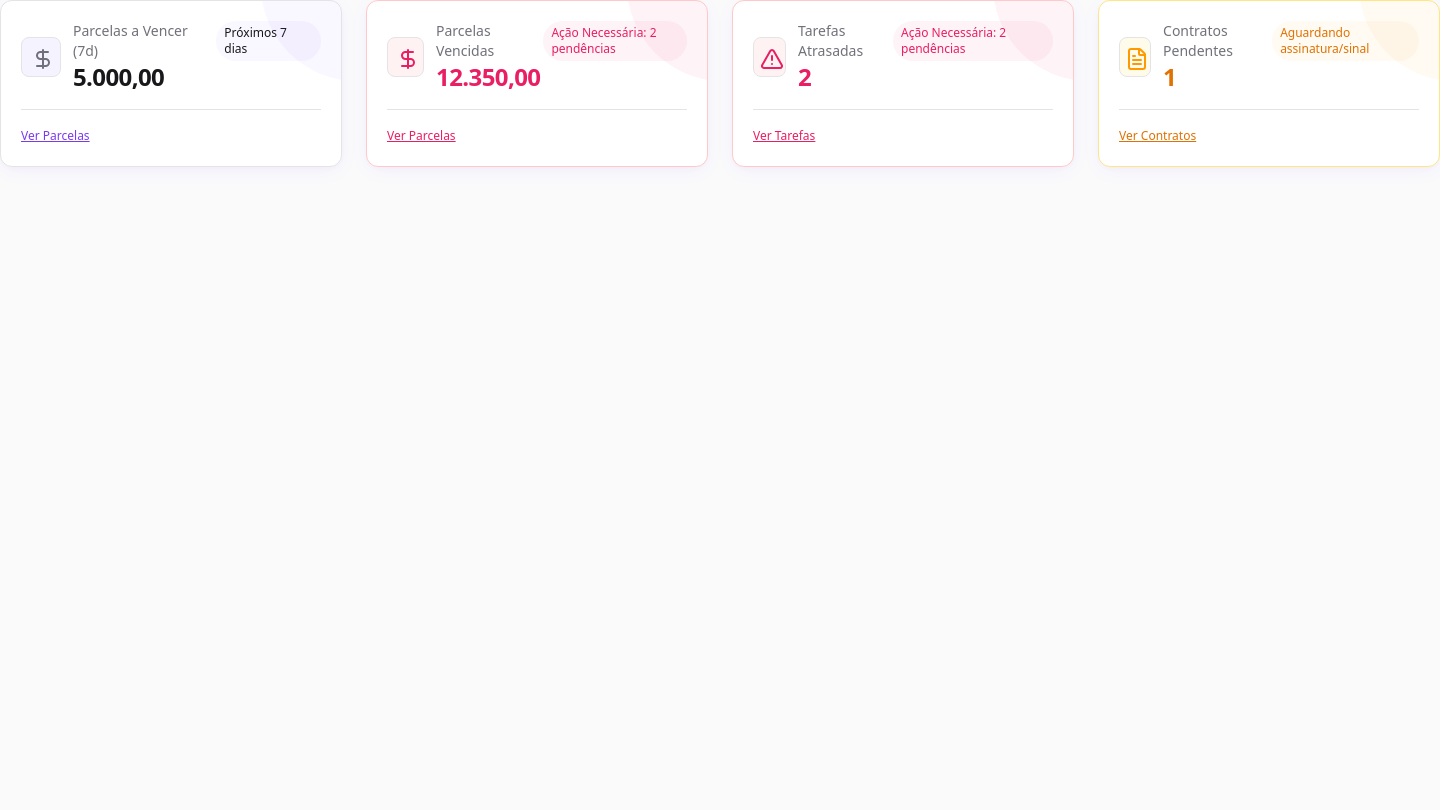
Scenario: StatsCards › opens pending contracts Sheet and renders content
The width and height of the screenshot is (1440, 810).
Click the button "Ver Contratos".
click(1158, 136)  # box [1119,128,1196,144]
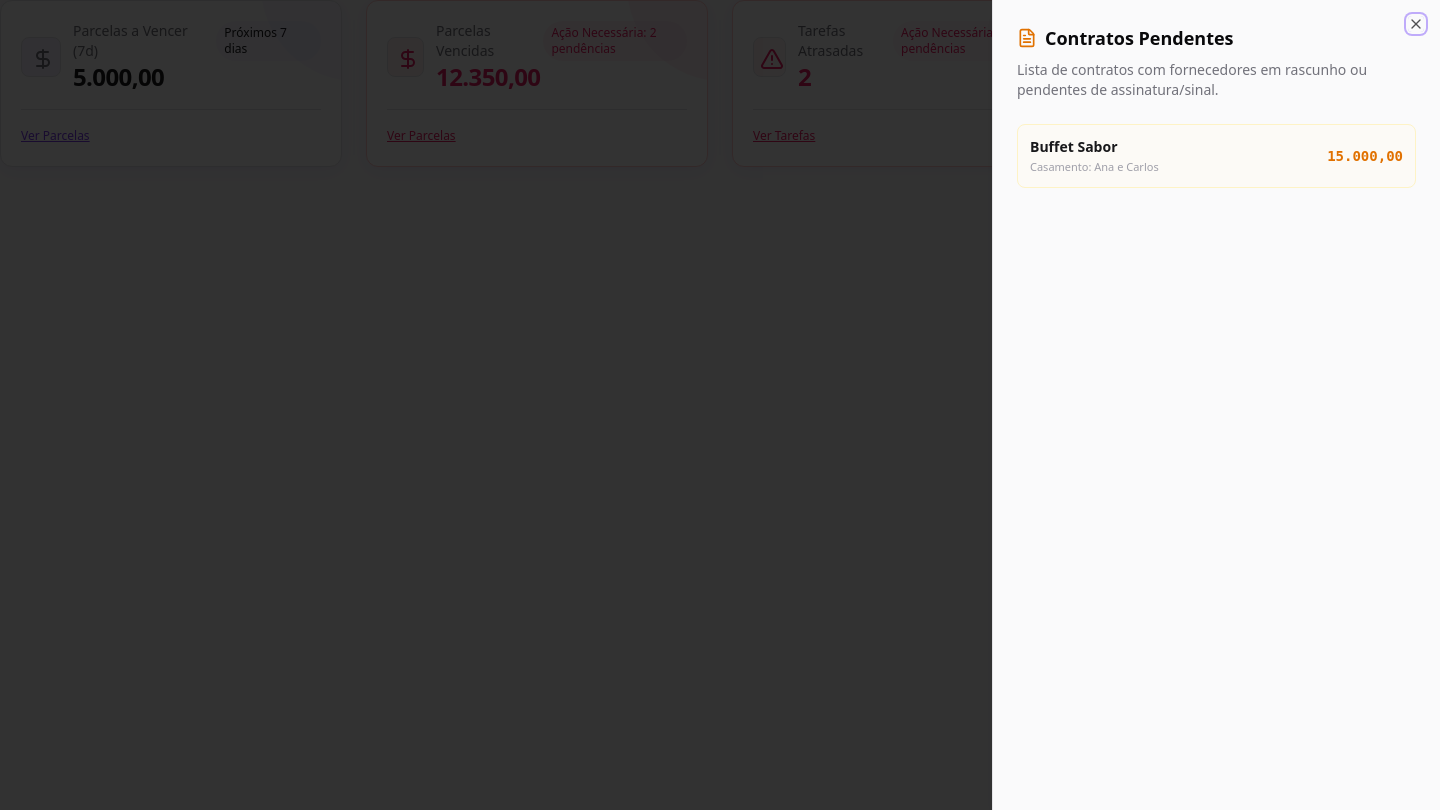
Result: the text "Buffet Sabor" is shown at [1030,137,1118,156]
Result: the text "15.000,00" is shown at [1327,146,1403,166]
Result: the text "Casamento: Ana e Carlos" is shown at [1030,159,1159,175]
